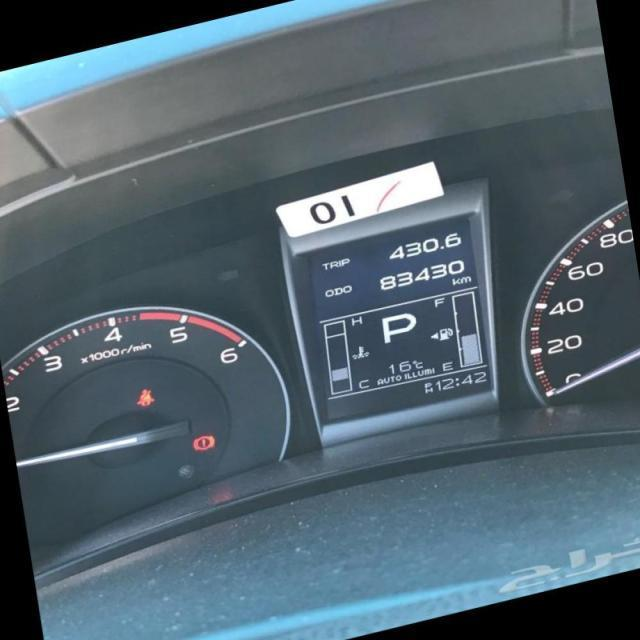Seat Belt: (137, 386, 153, 408)
